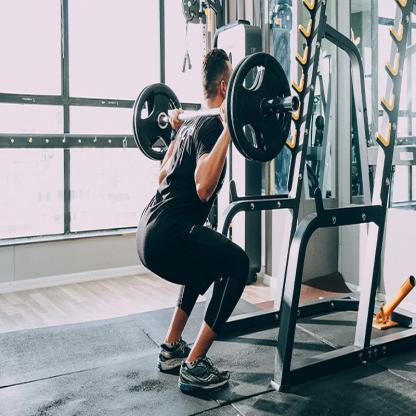Barbell: (223, 45, 303, 166)
